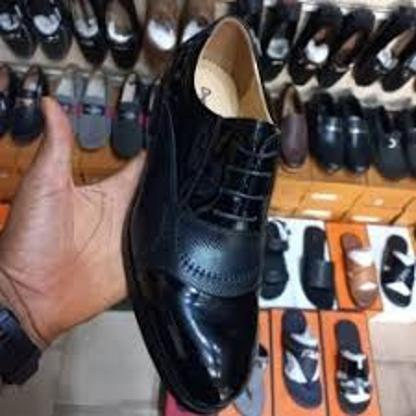not trash: (116, 11, 272, 410), (352, 4, 416, 86), (330, 312, 378, 410), (321, 1, 374, 85), (279, 312, 323, 412), (290, 0, 340, 85), (336, 226, 379, 309), (366, 105, 411, 182), (297, 216, 333, 310), (273, 85, 312, 171), (262, 0, 301, 81), (76, 63, 112, 147), (311, 90, 344, 180), (12, 53, 45, 140), (339, 87, 371, 176), (384, 226, 416, 312), (32, 0, 73, 64), (112, 67, 141, 154), (109, 0, 144, 69), (0, 0, 33, 64), (78, 0, 108, 64)
